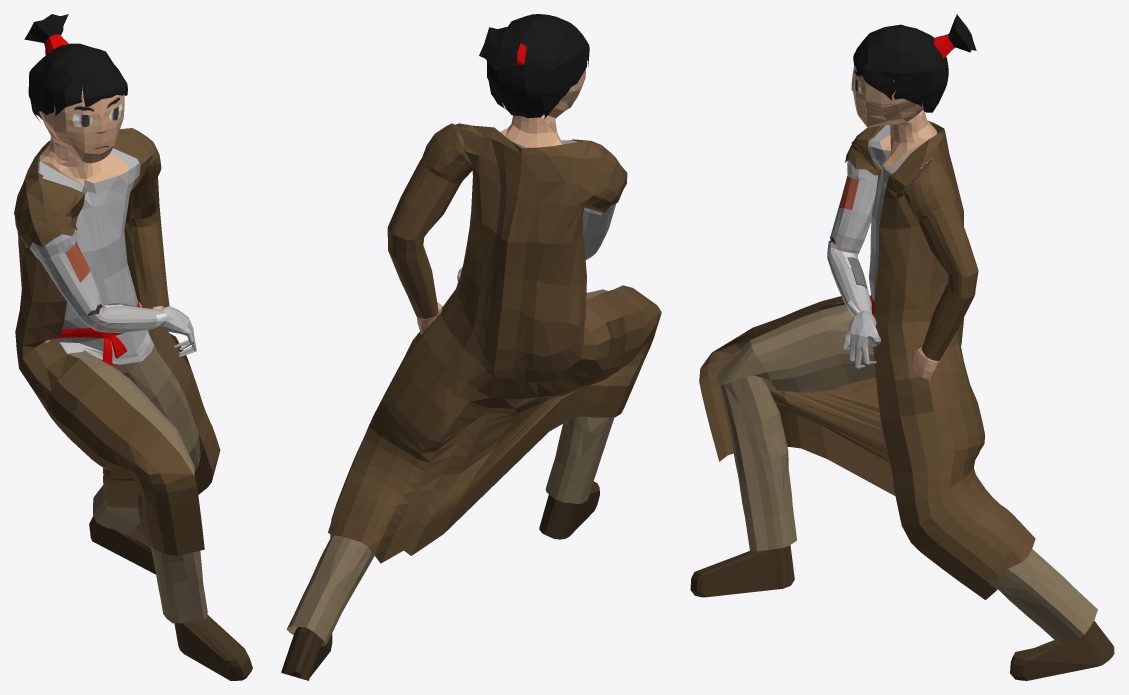
File: One_RL_000019.obj
The picture shows the model from 3 angles, left to right: view 1: azimuth 30°, elevation 25°; view 2: azimuth 150°, elevation 25°; view 3: azimuth 270°, elevation 25°; orthographic projection. The views are drawn at different scales.
Visible parts, largest first — view 1: Hair_Cube.004; view 2: Hair_Cube.004; view 3: Hair_Cube.004.
Part boxes in pixels (bbox=[...]): Hair_Cube.004: bbox=[14, 14, 252, 680]; Hair_Cube.004: bbox=[281, 14, 661, 680]; Hair_Cube.004: bbox=[690, 14, 1114, 680].
Bounding box in the file's own units: 1.34 × 3.47 × 2.26.
